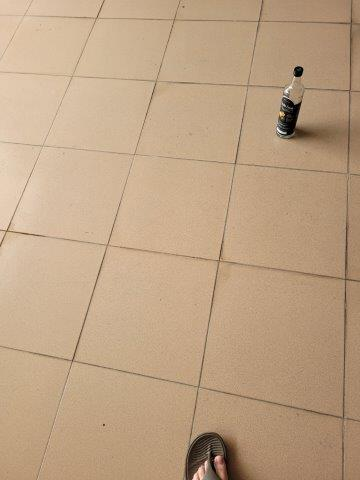botolkaca: (276, 65, 305, 139)
